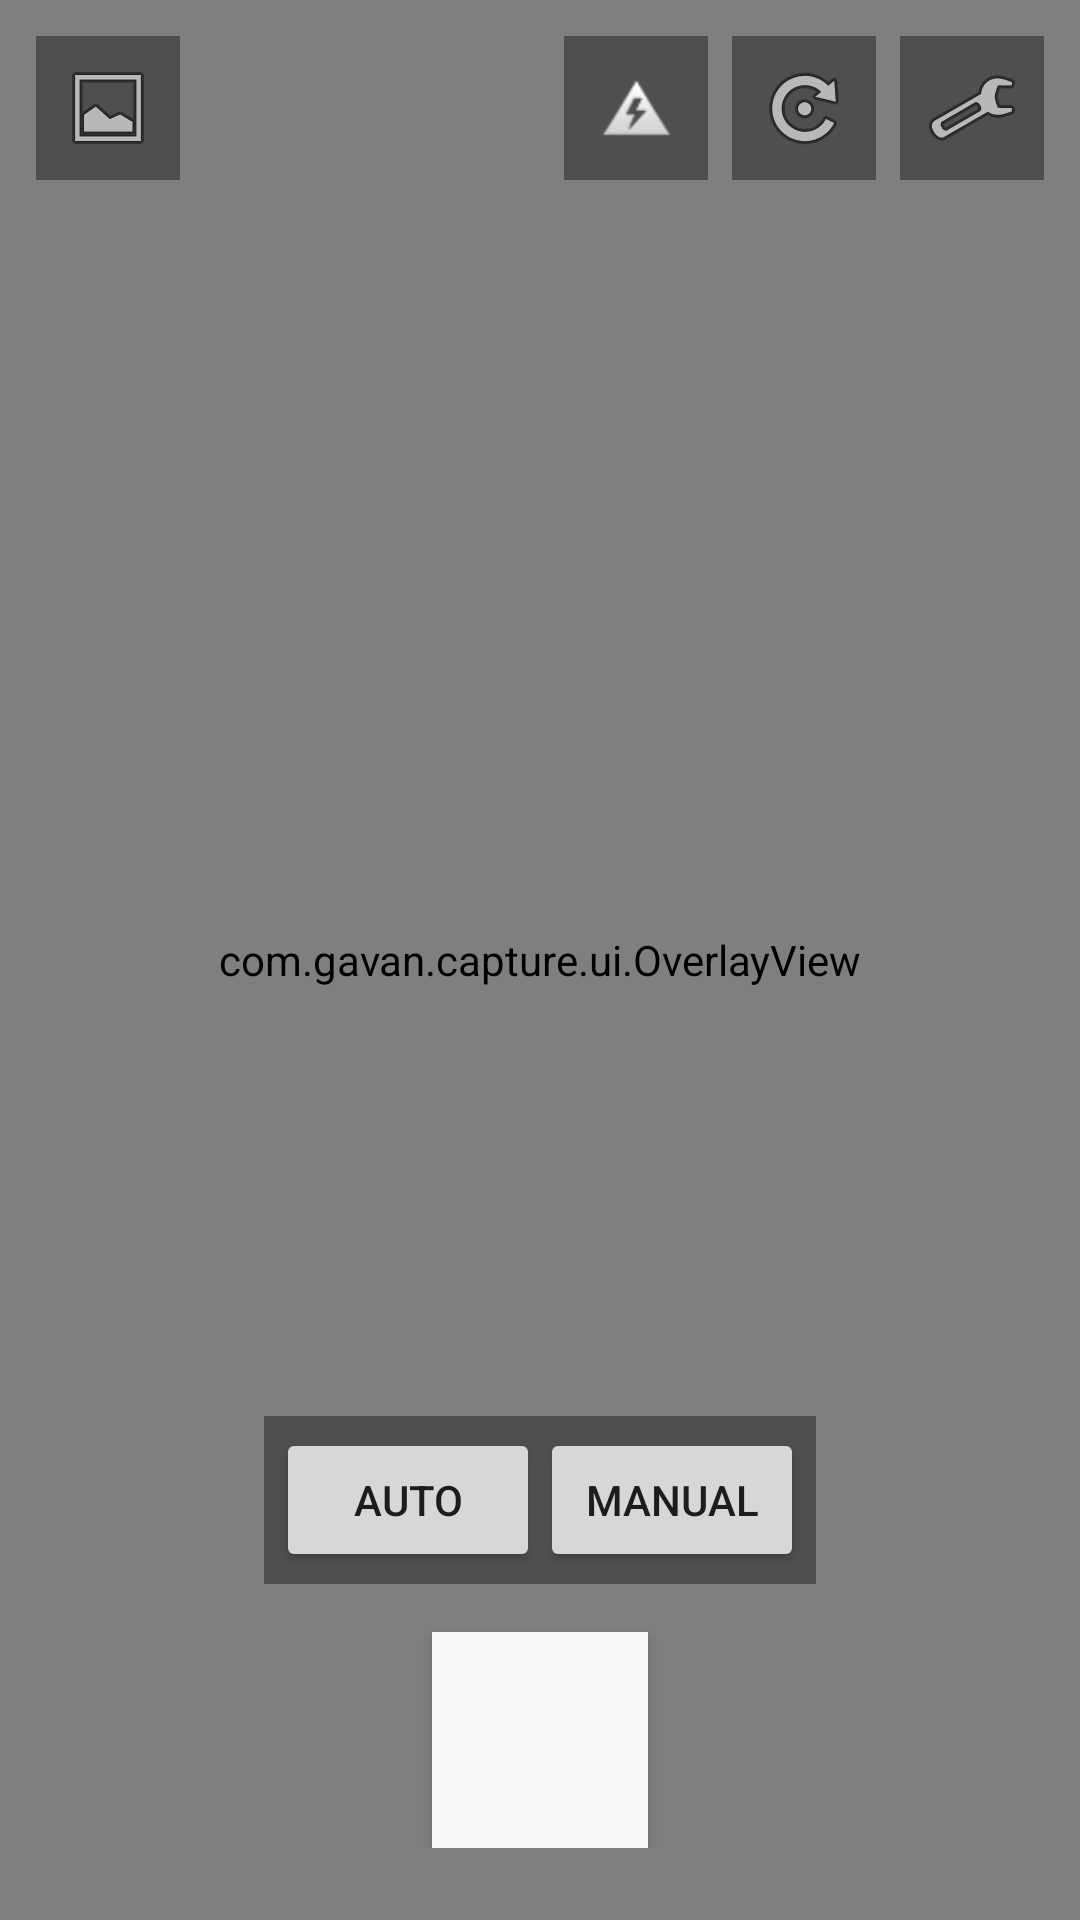

Named icons in this screenshot (1080x1920) and their centers, (x=x, y=y):
Debug panel: (x=972, y=108)
Gallery: (x=108, y=108)
Switch camera: (x=804, y=108)
Torch: (x=636, y=108)
